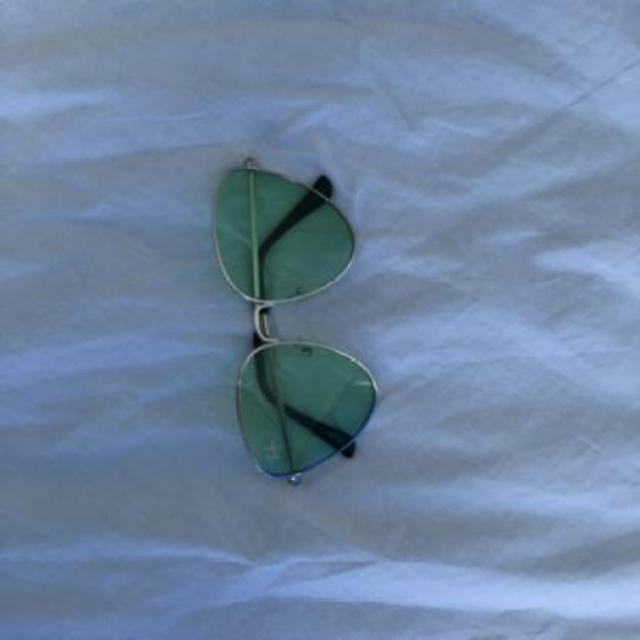sunglasses: (210, 156, 380, 484)
